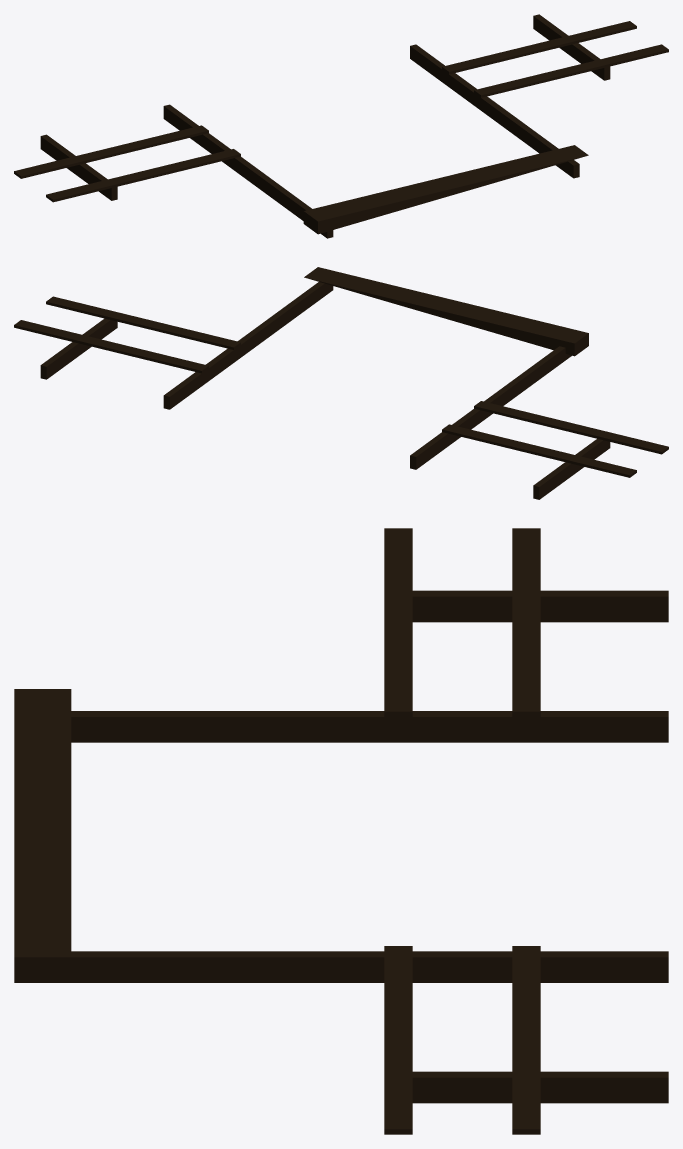
The model's file is gate.obj.
The picture shows the model from 3 angles, top to bottom: view 1: azimuth 30°, elevation 25°; view 2: azimuth 150°, elevation 25°; view 3: azimuth 270°, elevation 25°; orthographic projection. The views are drawn at different scales.
Size of the model in its own units: 5 by 0.15 by 2.3.
